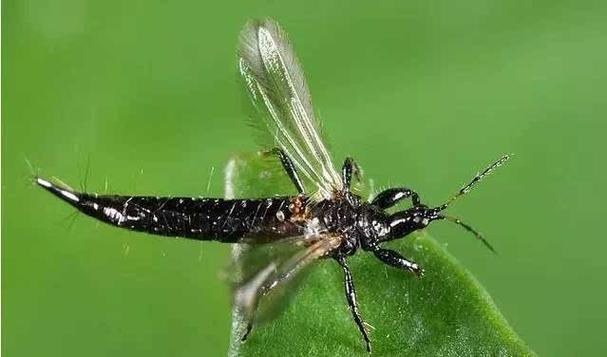Phlaeothripidae: (23, 11, 512, 354)
